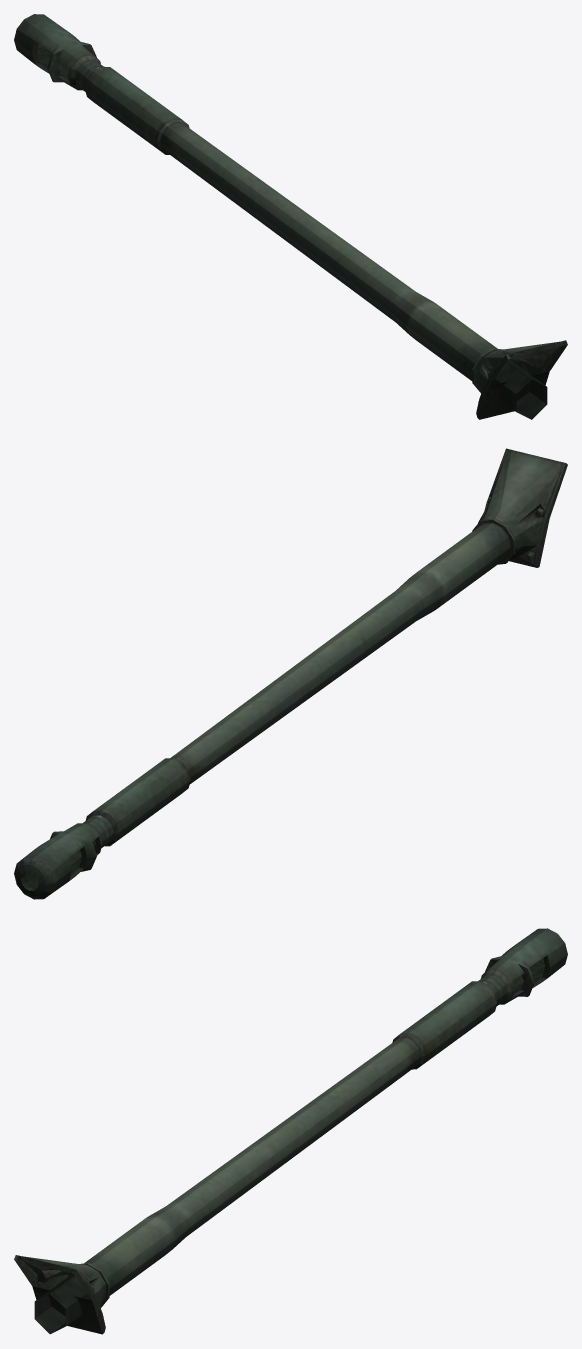
Rendered from barrel.obj.
3 renders of one model, top to bottom at view 1: azimuth 30°, elevation 25°; view 2: azimuth 150°, elevation 25°; view 3: azimuth 330°, elevation 25°, orthographic.
Visible parts, largest first — view 1: Mesh; view 2: Mesh; view 3: Mesh.
Boxes of the visible parts, x1=… form: Mesh: x1=14, y1=14, x2=567, y2=419; Mesh: x1=14, y1=448, x2=567, y2=899; Mesh: x1=14, y1=928, x2=567, y2=1334.
Size of the model in its own units: 0.4432 by 0.5956 by 6.5.
Materials: 1 (1 with a texture image).
